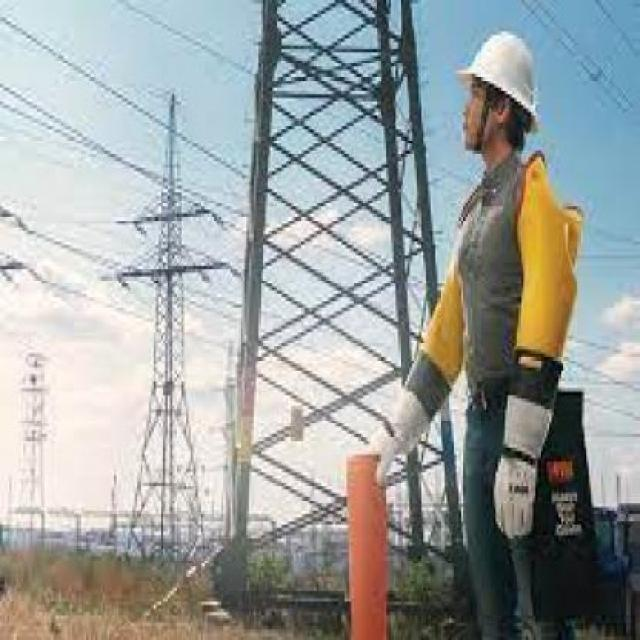gloves: (492, 360, 563, 540), (369, 351, 451, 488)
hard-hat: (454, 31, 538, 117)
person: (370, 30, 586, 638)
vest: (370, 157, 585, 415)
